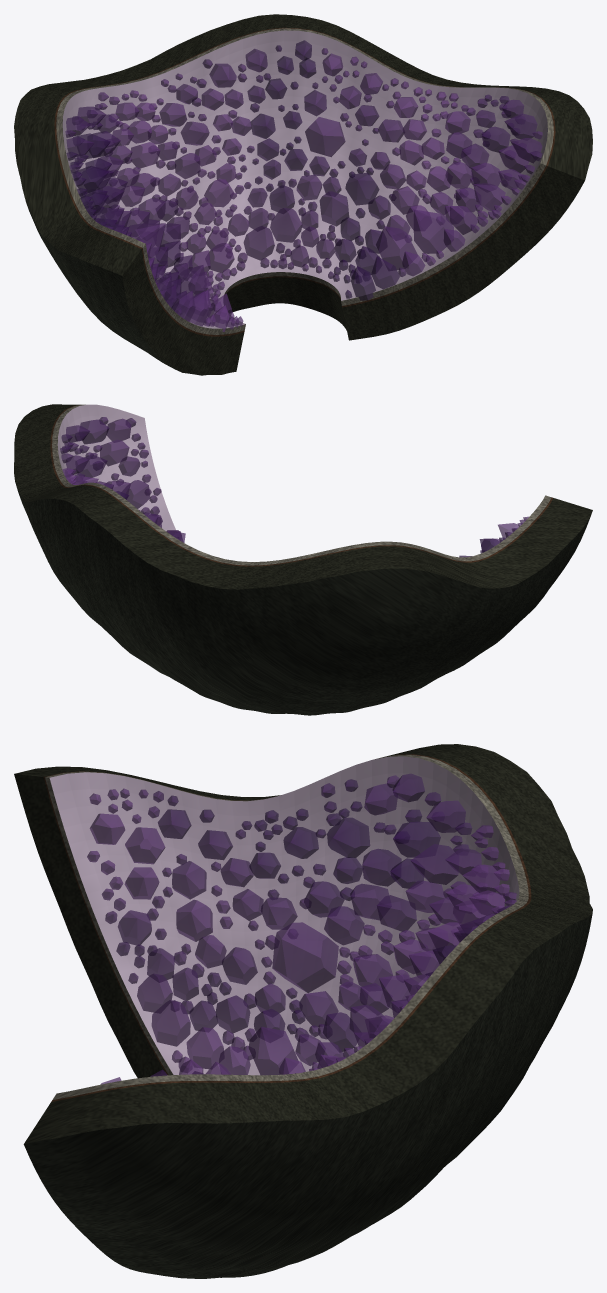
File: specimen.glb
3 views of the same model, one above another, from view 1: azimuth 30°, elevation 25°; view 2: azimuth 150°, elevation 25°; view 3: azimuth 270°, elevation 25° (orthographic). The views are drawn at different scales.
Parts seen in each view (by area): view 1: fragment-lining, amethyst-growth, broken-end-2, broken-end-0, fragment-outer, broken-end-1; view 2: fragment-outer, broken-end-2, fragment-lining, amethyst-growth, broken-end-0, broken-end-1; view 3: fragment-lining, amethyst-growth, fragment-outer, broken-end-2, broken-end-0, broken-end-1.
Boxes of the visible parts, x1,y1,x2,y2 form: fragment-lining: (62, 30, 547, 328); amethyst-growth: (65, 40, 542, 331); broken-end-2: (14, 14, 592, 375); broken-end-0: (56, 28, 553, 334); fragment-outer: (18, 170, 179, 371); broken-end-1: (54, 27, 555, 336); fragment-outer: (16, 485, 590, 715); broken-end-2: (14, 404, 592, 589); fragment-lining: (57, 404, 175, 531); amethyst-growth: (60, 417, 528, 557); broken-end-0: (52, 404, 551, 565); broken-end-1: (50, 404, 552, 566); fragment-lining: (49, 756, 519, 1075); amethyst-growth: (87, 773, 516, 1084); fragment-outer: (24, 914, 592, 1278); broken-end-2: (14, 744, 592, 1143); broken-end-0: (45, 754, 528, 1099); broken-end-1: (43, 754, 531, 1101).
Bounding box in the file's own units: 0.0454 × 0.0201 × 0.0294.
Materials: 3 (1 with a texture image).
